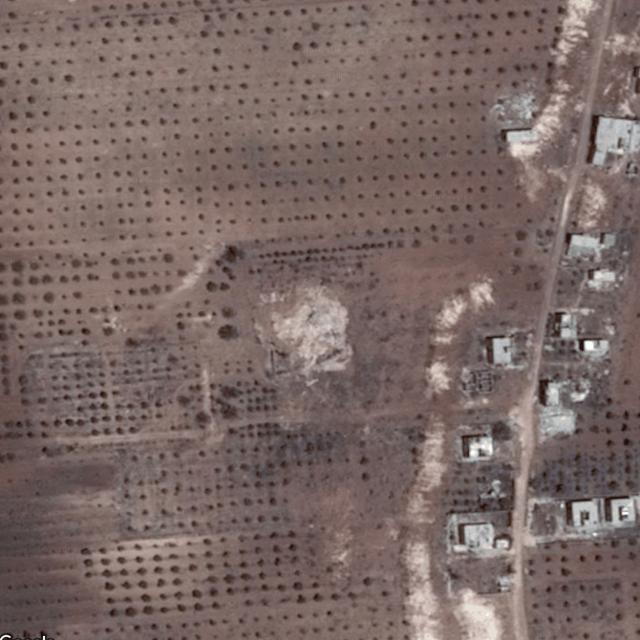damaged_building: (270, 293, 349, 372)
